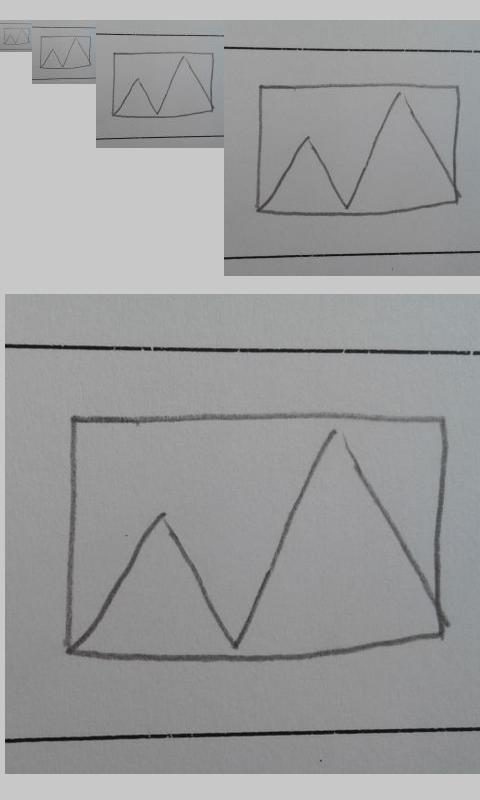image_view: (63, 413, 451, 672), (254, 83, 461, 217), (111, 50, 216, 119), (39, 34, 92, 70), (3, 27, 31, 46)
